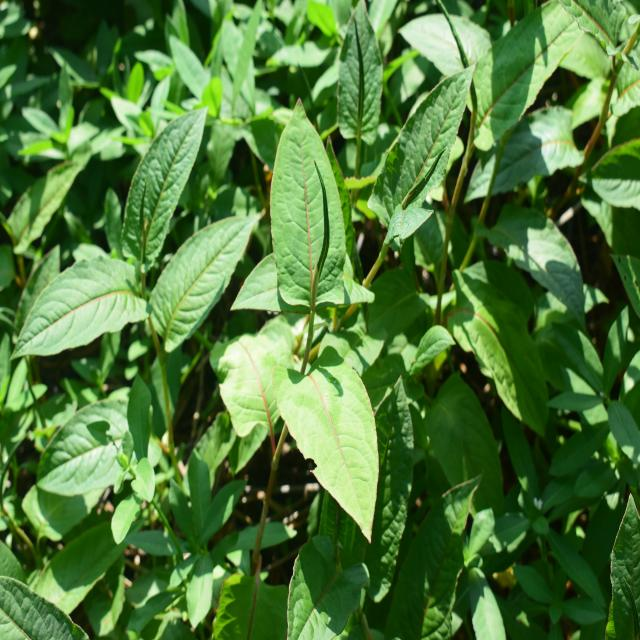Chinese_knotweed: (246, 124, 378, 547), (40, 123, 241, 379)
